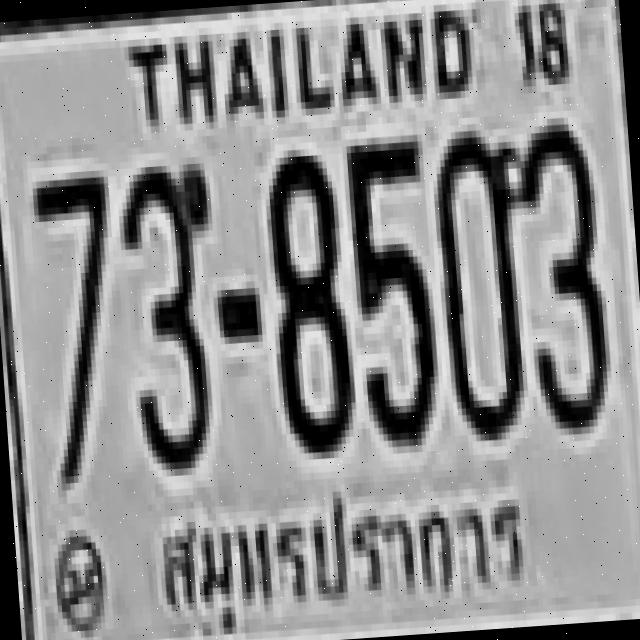0: (429, 124, 534, 432)
3: (114, 156, 224, 471), (513, 115, 610, 430)
5: (341, 134, 438, 442)
7: (28, 170, 124, 484), (27, 170, 122, 443), (27, 170, 117, 376)
8: (260, 150, 352, 452)
SamutPrakan: (147, 464, 536, 640)
